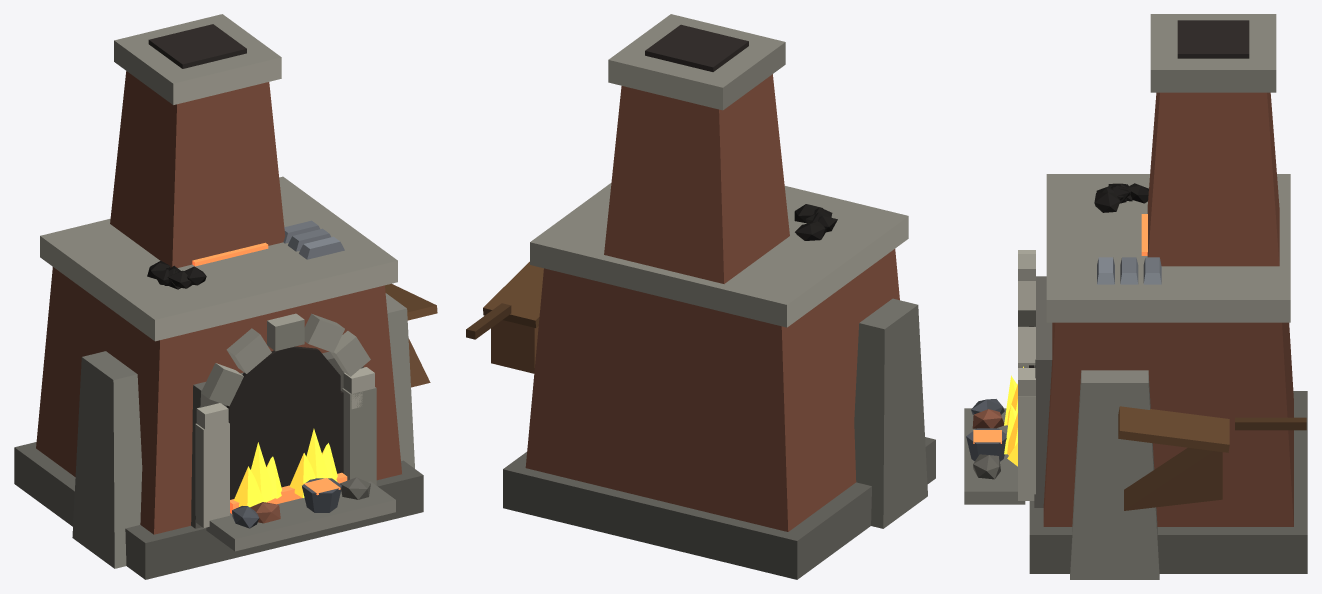
The model's file is furnace.glb.
3 views of the same model, side by side, from view 1: azimuth 30°, elevation 25°; view 2: azimuth 150°, elevation 25°; view 3: azimuth 270°, elevation 25° (orthographic). The views are drawn at different scales.
Parts seen in each view (by area): view 1: furnace; view 2: furnace; view 3: furnace.
Part boxes in pixels (x1,y1,x2,y2): furnace: (14, 14, 437, 579); furnace: (466, 14, 935, 579); furnace: (964, 14, 1307, 579).
Size of the model in its own units: 2.36 by 2.86 by 1.92.
